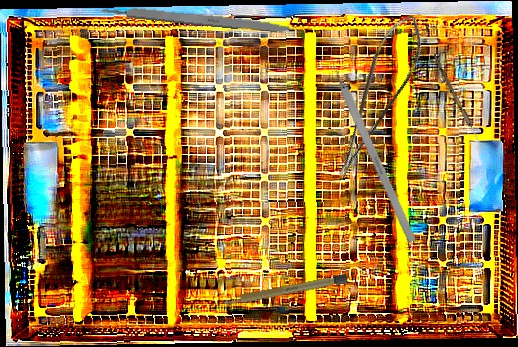Hook Surgical: (323, 49, 417, 244)
Micro Scissor: (309, 8, 440, 181)
Scalpel Handle: (99, 1, 298, 36), (222, 273, 348, 307)
Surgical Spoon: (430, 53, 487, 152)
